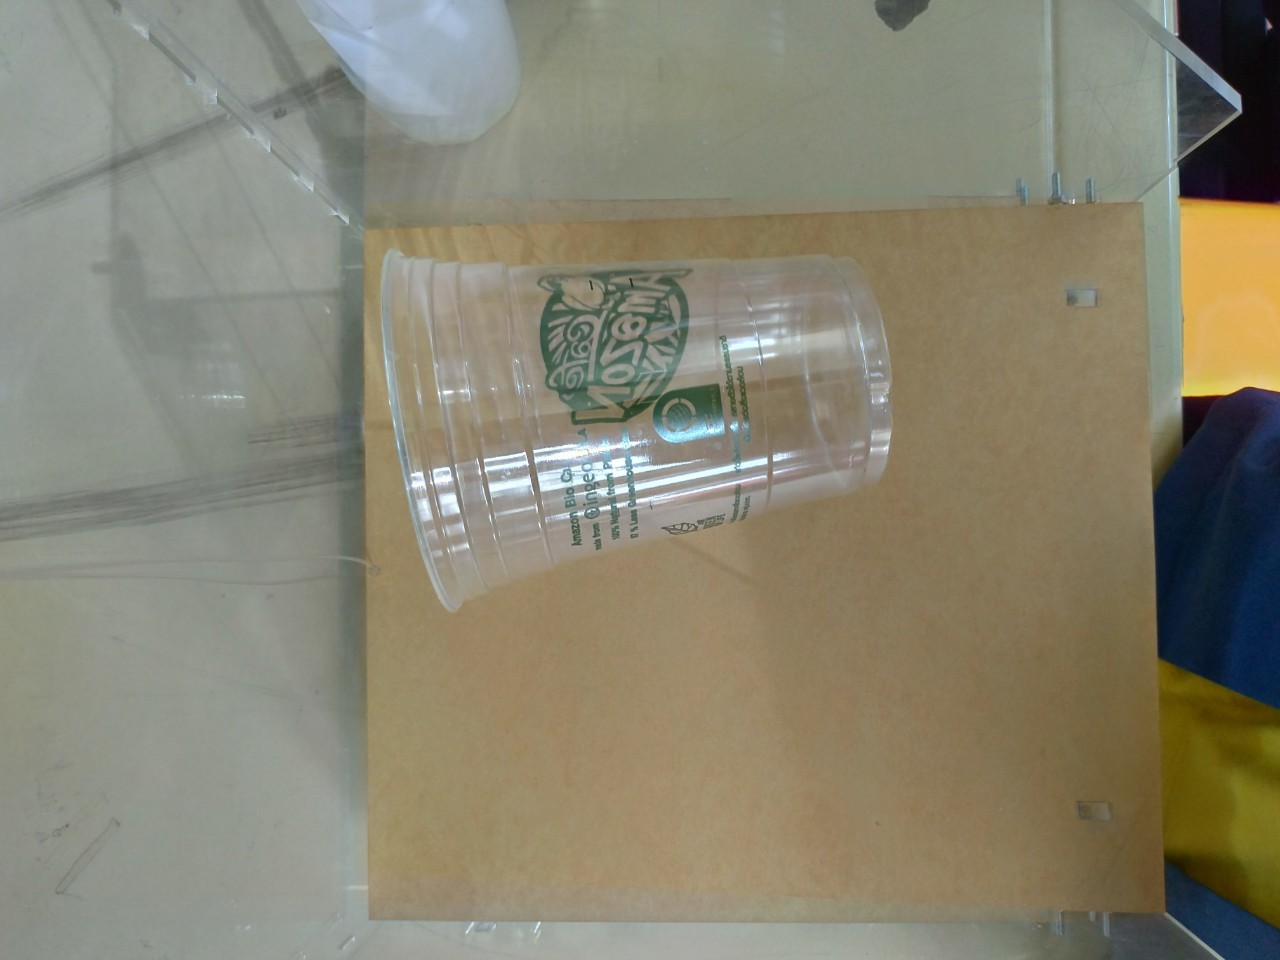PlasticCup: (380, 244, 894, 615)
